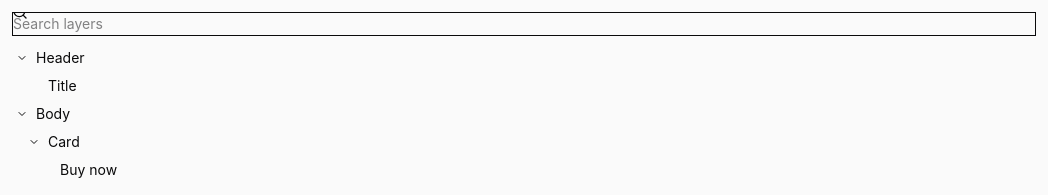
Test: selection › collapses and expands with the arrows
The image size is (1048, 195).
Click the button "Body": (53,114) [36, 103, 984, 126]
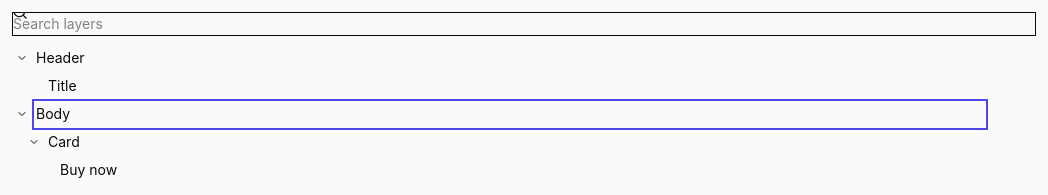
Press Arrowleft
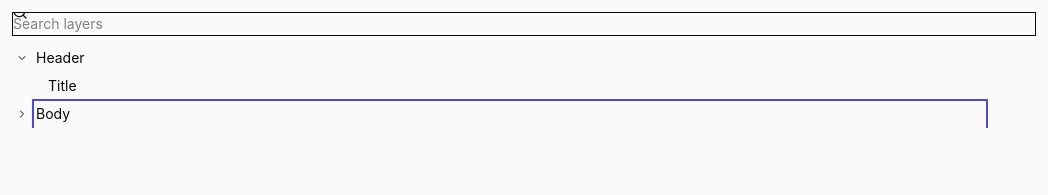
Expected: the button "Card" is gone
Press Arrowright
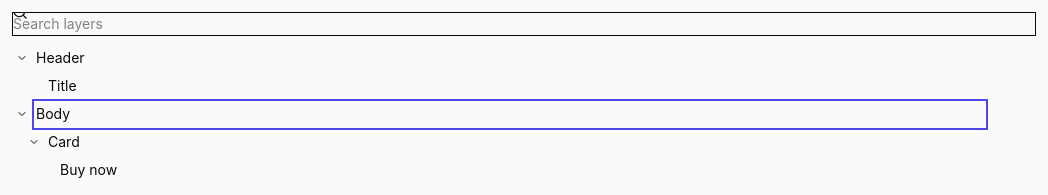
Expected: the button "Card" is shown, [48, 131, 984, 154]
